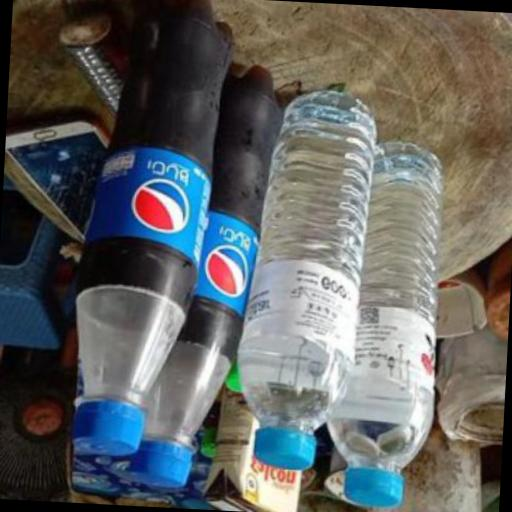Coca: (226, 68, 386, 482), (314, 130, 460, 512)
